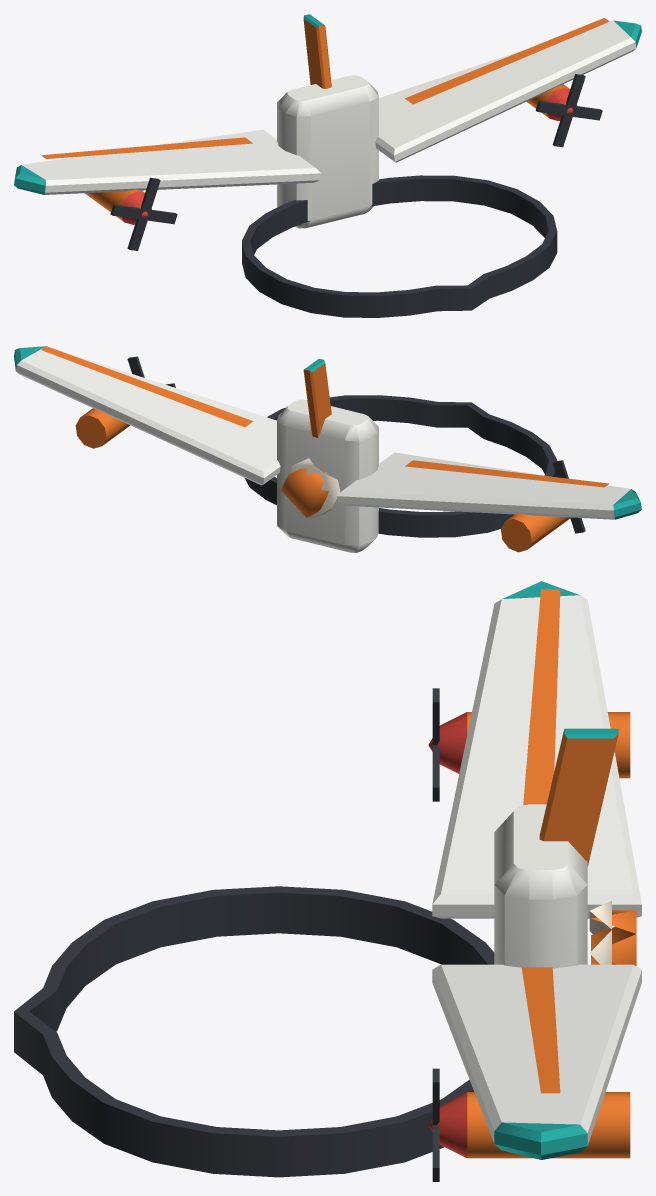
File: AlasAvion.fbx
3 renders of one model, top to bottom at view 1: azimuth 30°, elevation 25°; view 2: azimuth 150°, elevation 25°; view 3: azimuth 270°, elevation 25°, orthographic. The views are drawn at different scales.
Visible parts, largest first — view 1: AlasAvion; view 2: AlasAvion; view 3: AlasAvion.
Part boxes in pixels (left/top/right/bottom): AlasAvion: left=14, top=14, right=641, bottom=317; AlasAvion: left=14, top=346, right=641, bottom=552; AlasAvion: left=14, top=581, right=641, bottom=1181.
Size of the model in its own units: 2.73 by 0.77 by 1.29.
Materials: 1 (1 with a texture image).
